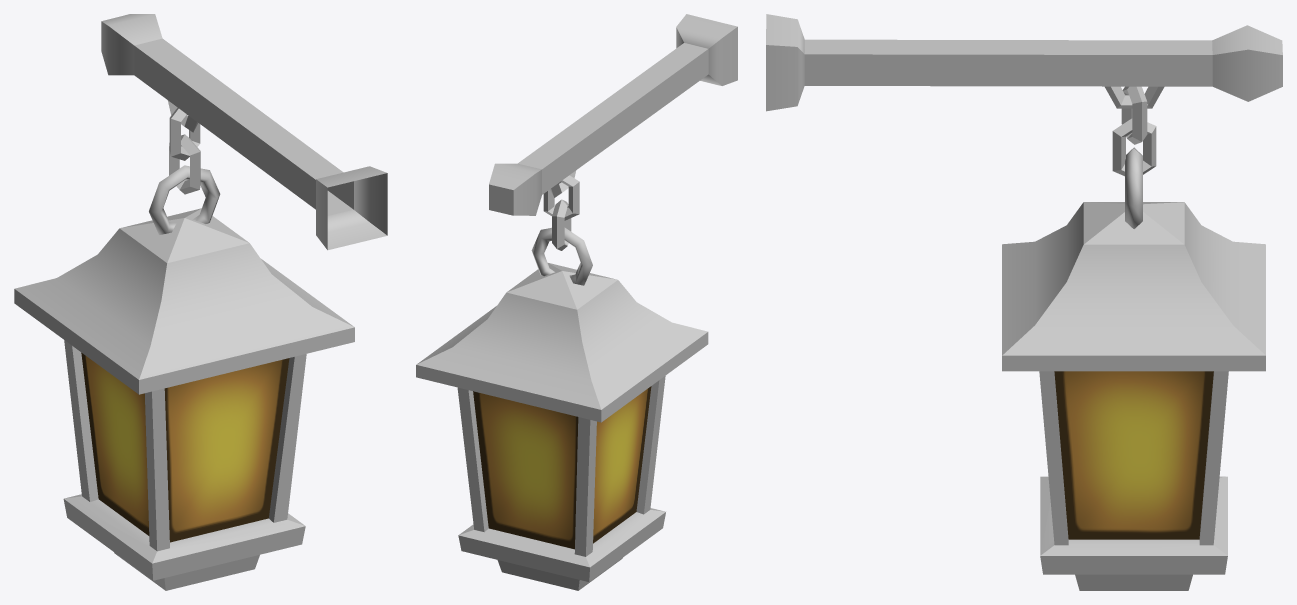
The model's file is SM_Lantern_03.fbx.
The picture shows the model from 3 angles, left to right: view 1: azimuth 30°, elevation 25°; view 2: azimuth 150°, elevation 25°; view 3: azimuth 270°, elevation 25°; orthographic projection. The views are drawn at different scales.
Parts seen in each view (by area): view 1: SM_Lantern_03_Mesh; view 2: SM_Lantern_03_Mesh; view 3: SM_Lantern_03_Mesh.
Part boxes in pixels (x1,y1,x2,y2): SM_Lantern_03_Mesh: (14,14,387,590); SM_Lantern_03_Mesh: (416,14,737,590); SM_Lantern_03_Mesh: (766,14,1282,590).
Size of what is drawn, in the model's own units: 29.21 by 65.71 by 57.21.
